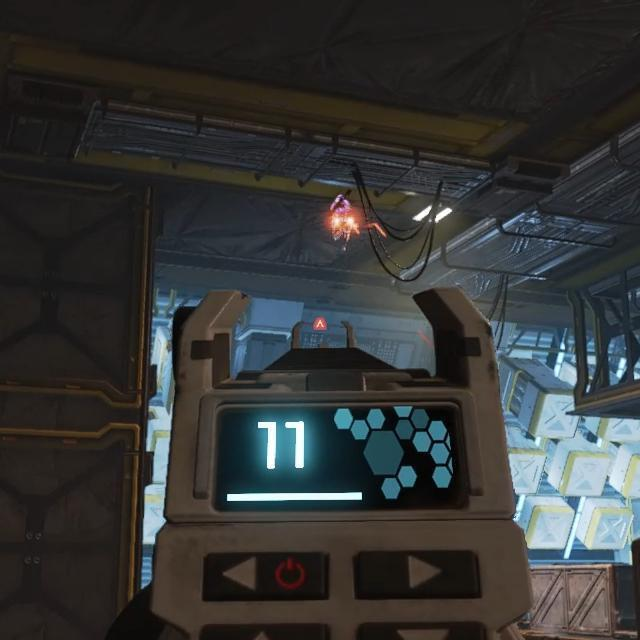avatar: (328, 193, 354, 254)
